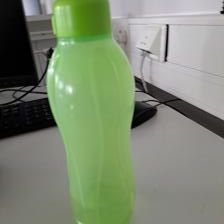bottle: (46, 1, 138, 224)
